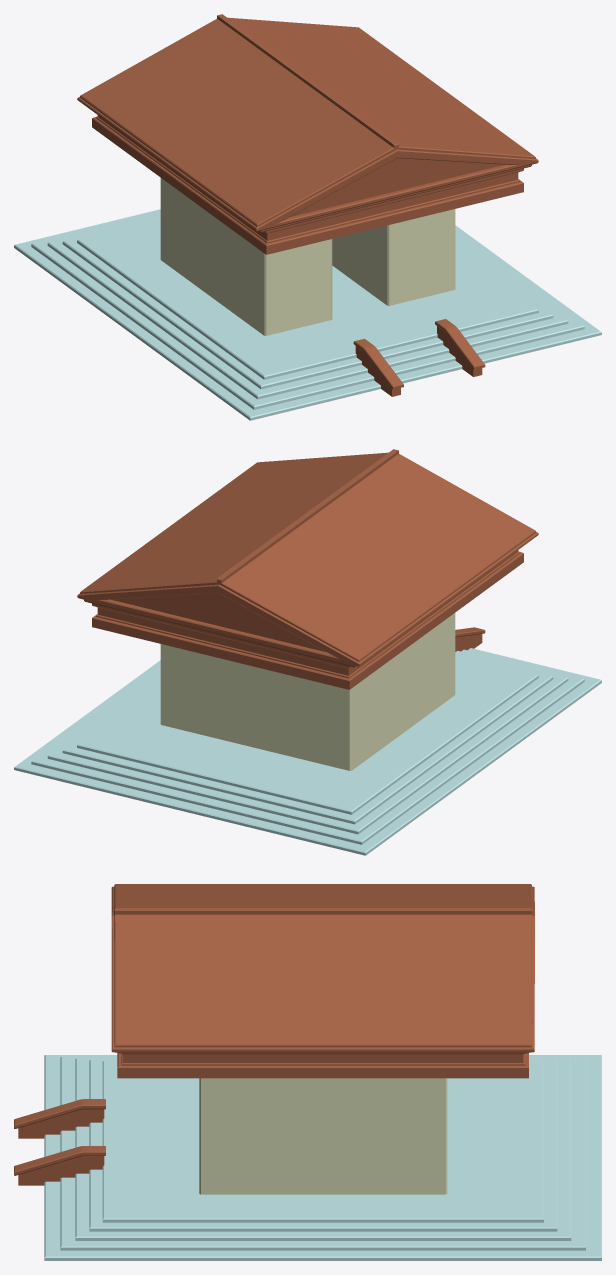
The model's file is Temple Artemis.fbx.
The picture shows the model from 3 angles, top to bottom: view 1: azimuth 30°, elevation 25°; view 2: azimuth 150°, elevation 25°; view 3: azimuth 270°, elevation 25°; orthographic projection. The views are drawn at different scales.
Visible parts, largest first — view 1: Railings; view 2: Railings; view 3: Railings.
Boxes of the visible parts, x1=… form: Railings: x1=14, y1=14, x2=601, y2=420; Railings: x1=14, y1=449, x2=601, y2=855; Railings: x1=14, y1=884, x2=601, y2=1260.
Bounding box in the file's own units: 1389 × 801 × 1705.
